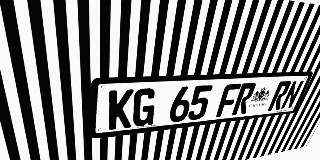5: (187, 85, 213, 121)
6: (168, 86, 194, 123)
F: (216, 83, 241, 117)
G: (132, 88, 158, 127)
K: (108, 89, 134, 130)
N: (280, 80, 305, 110)
R: (231, 83, 257, 115), (267, 81, 292, 111)
